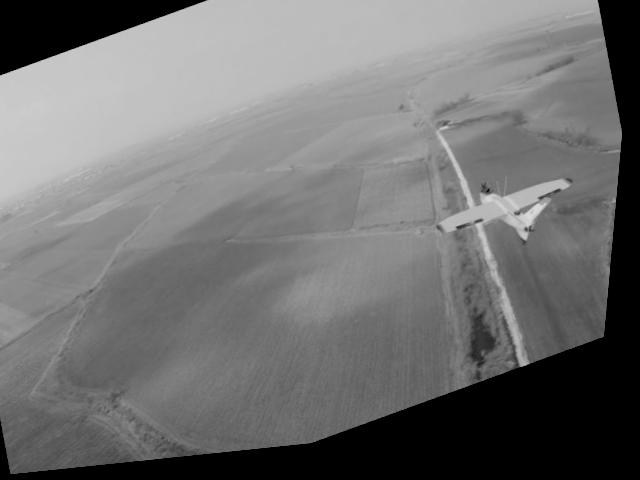hedef: (417, 140, 602, 293)
